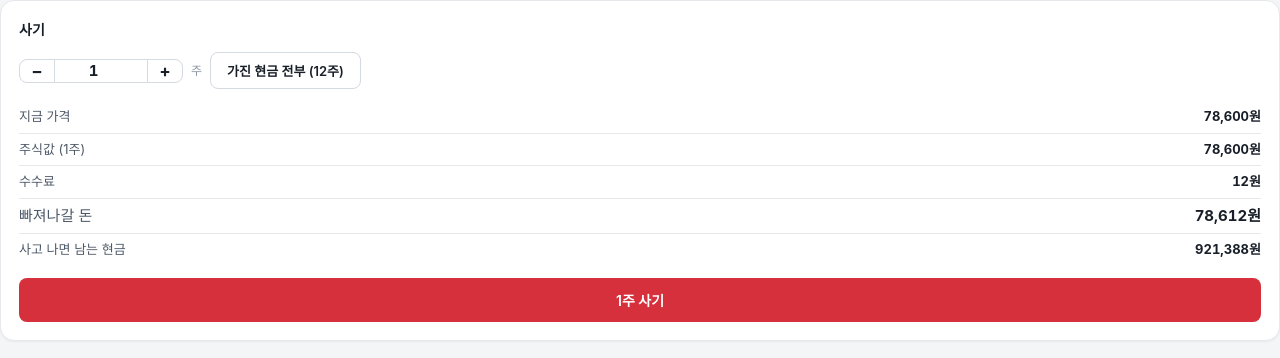
Test: BuyPanel 잔고 초과(SPEC §9.2) › '가진 현금 전부'는 수수료까지 감안한 수량을 넣는다
The image size is (1280, 358).
Click the button "가진 현금 전부 (12주)": (285, 70) x1=210 y1=52 x2=361 y2=89
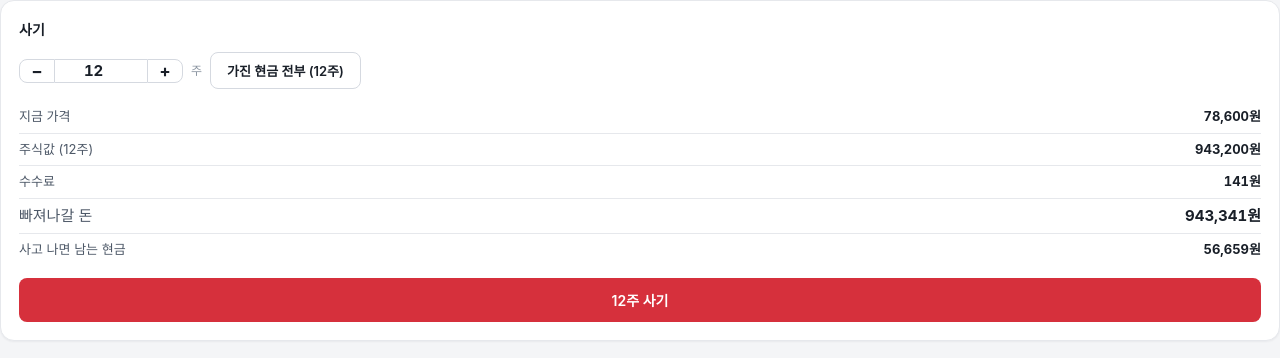
Expected: the button "12주 사기" is enabled, x1=19 y1=278 x2=1261 y2=322
Expected: the number field named "살 수량" holds "12", x1=55 y1=58 x2=147 y2=82
